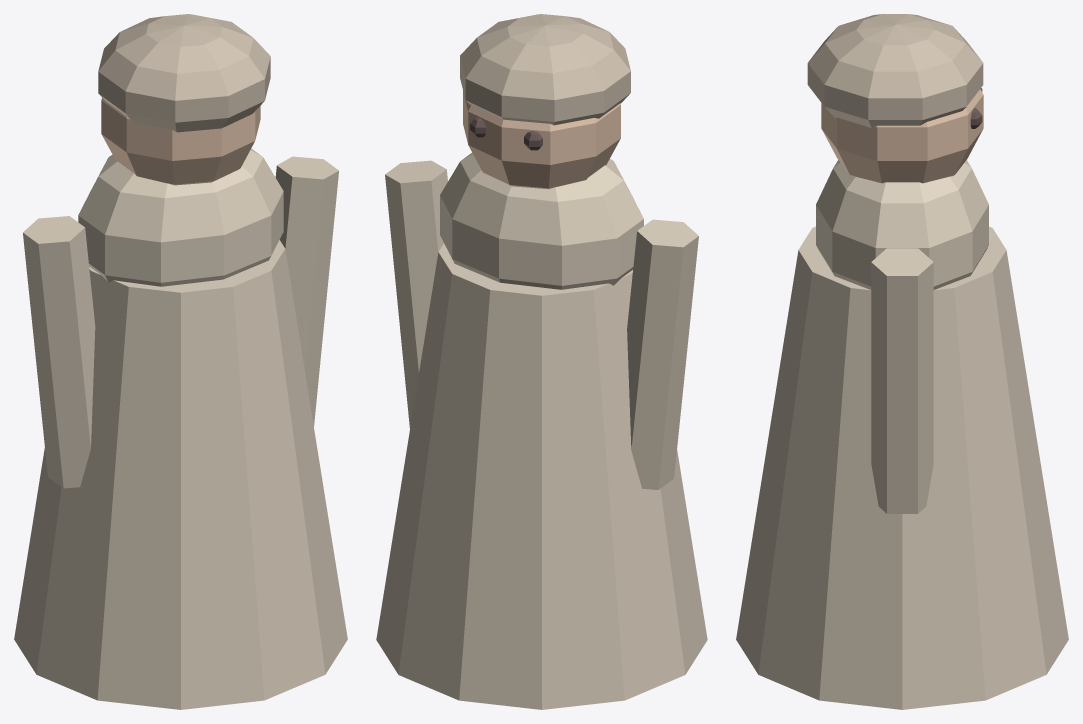
Rendered from orphan.glb.
3 renders of one model, left to right at view 1: azimuth 30°, elevation 25°; view 2: azimuth 150°, elevation 25°; view 3: azimuth 270°, elevation 25°, orthographic.
Visible parts, largest first — view 1: orphan; view 2: orphan; view 3: orphan.
Boxes of the visible parts, x1=… form: orphan: x1=14, y1=14, x2=347, y2=709; orphan: x1=376, y1=14, x2=707, y2=709; orphan: x1=736, y1=14, x2=1068, y2=709.
Bounding box in the file's own units: 0.3595 × 0.7042 × 0.3456.
